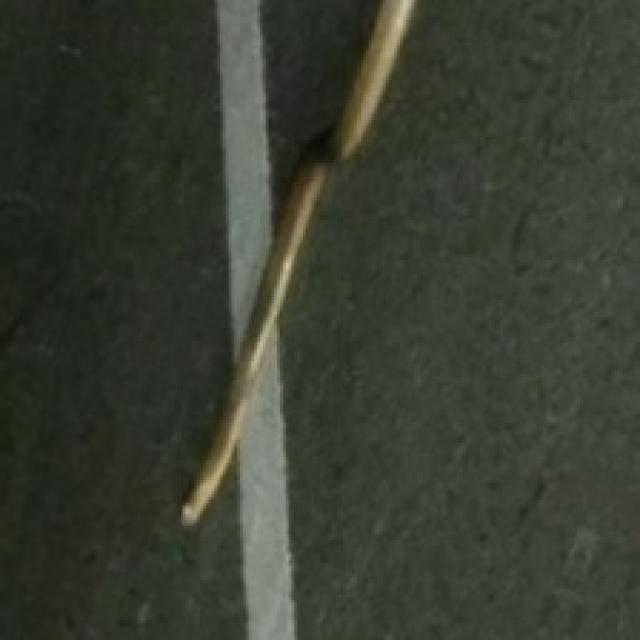king cobra: (180, 0, 414, 523)
